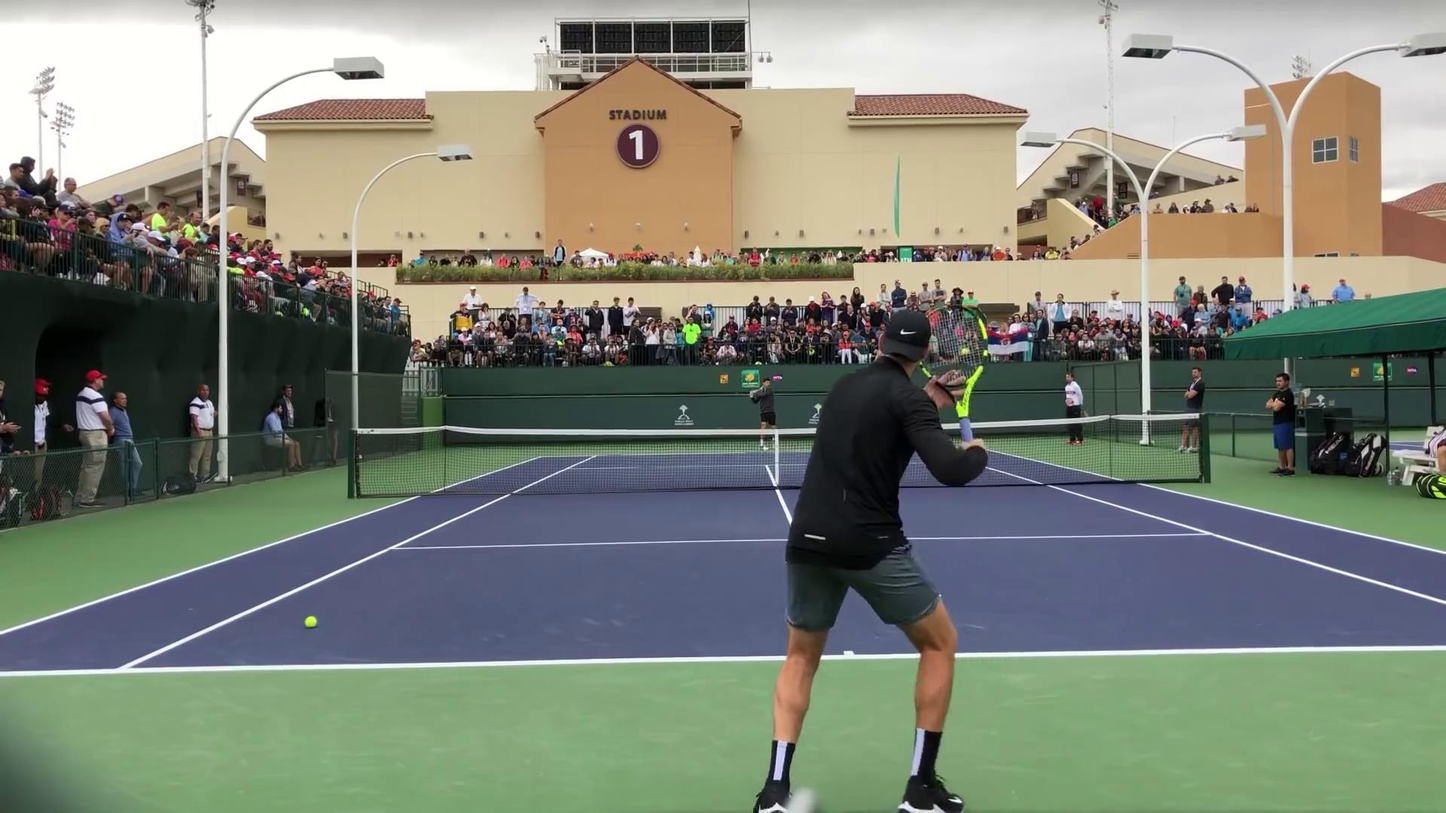ball: (303, 615, 317, 629)
